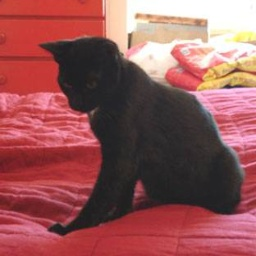cat: (38, 28, 242, 240)
